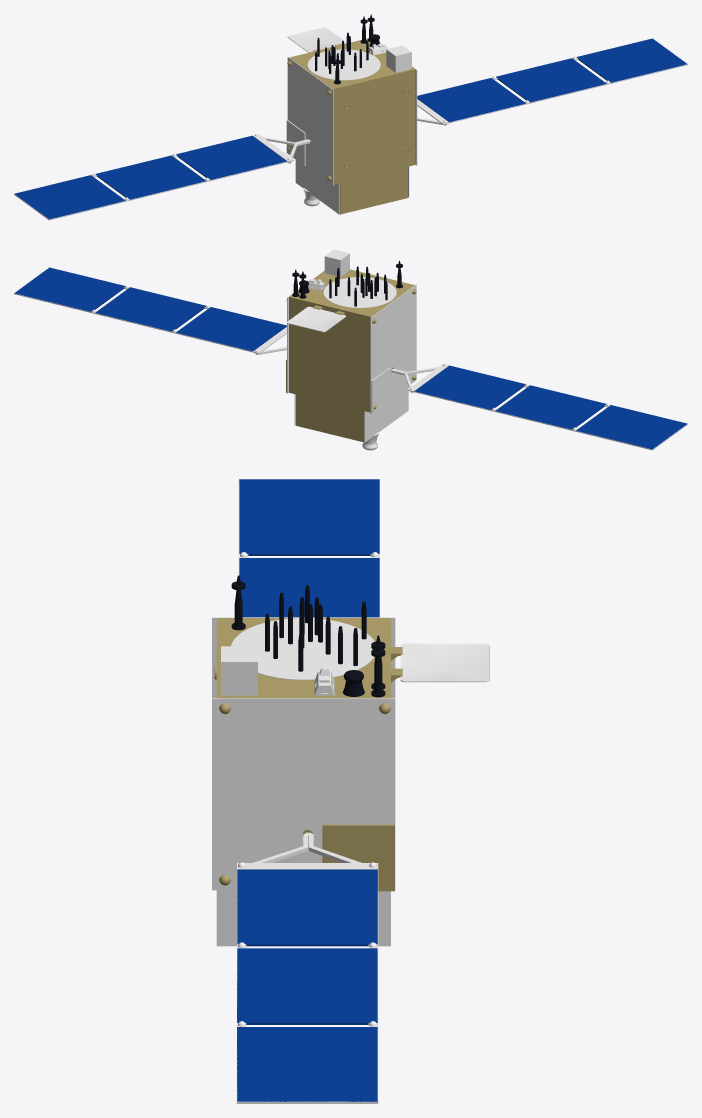
The model's file is BD-MEO.gltf.
3 renders of one model, top to bottom at view 1: azimuth 30°, elevation 25°; view 2: azimuth 150°, elevation 25°; view 3: azimuth 270°, elevation 25°, orthographic. The views are drawn at different scales.
Parts seen in each view (by area): view 1: 主体-材质 (×3), 01-材质 (×2), 01_1-材质 (×2); view 2: 主体-材质 (×3), 01-材质 (×2), 01_1-材质 (×2); view 3: 主体-材质 (×3), 01_1-材质 (×2), 01-材质.
Part boxes in pixels (x1,y1,x2,y2): 主体-材质 (×3): [286, 14, 417, 214]; 01-材质 (×2): [14, 133, 310, 220]; 01_1-材质 (×2): [417, 38, 687, 125]; 主体-材质 (×3): [286, 249, 416, 450]; 01-材质 (×2): [391, 363, 687, 450]; 01_1-材质 (×2): [14, 267, 286, 355]; 主体-材质 (×3): [212, 575, 489, 946]; 01_1-材质 (×2): [236, 832, 378, 1103]; 01-材质: [239, 479, 379, 617].
Size of the model in its own units: 2097 by 525 by 395.
